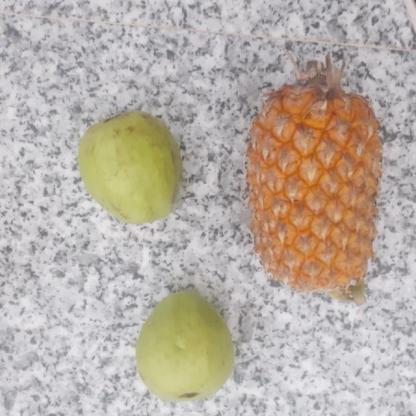guava: (79, 113, 190, 217), (134, 291, 238, 401)
pineapple: (248, 76, 384, 304)
